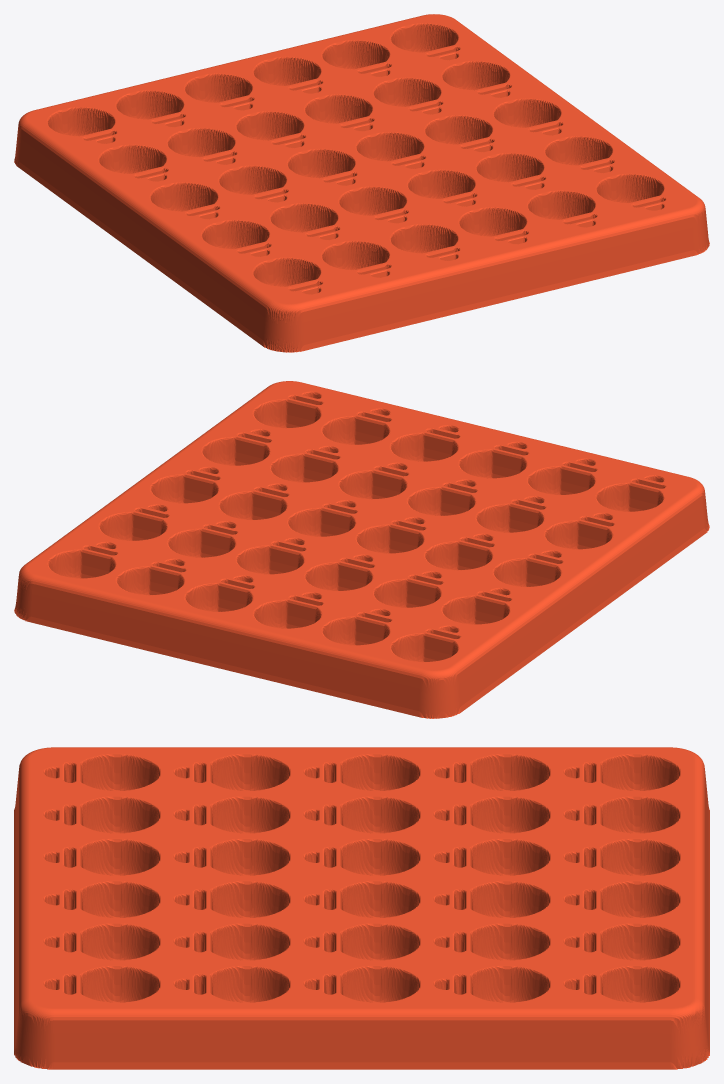
Rendered from mold.glb.
3 renders of one model, top to bottom at view 1: azimuth 30°, elevation 25°; view 2: azimuth 150°, elevation 25°; view 3: azimuth 270°, elevation 25°, orthographic. The views are drawn at different scales.
Visible parts, largest first — view 1: geometry_0; view 2: geometry_0; view 3: geometry_0.
Boxes of the visible parts, bbox=[...] form: geometry_0: bbox=[14, 14, 709, 352]; geometry_0: bbox=[14, 381, 709, 718]; geometry_0: bbox=[14, 747, 709, 1069].
Size of the model in its own units: 0.1471 by 0.0136 by 0.1581.
